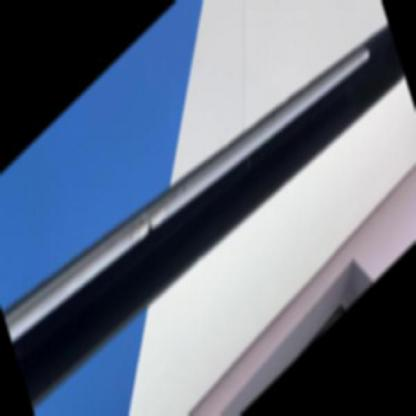light_off: (0, 0, 385, 414)
